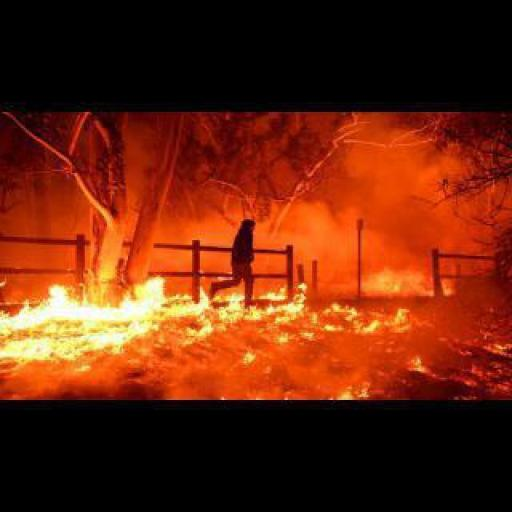smoke: (2, 278, 510, 398)
